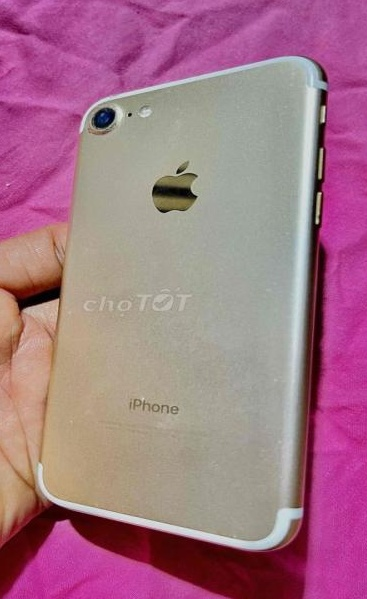scratch: (71, 98, 128, 136), (138, 88, 189, 115), (58, 408, 110, 429), (268, 96, 298, 125), (260, 436, 293, 461), (161, 119, 185, 150), (283, 61, 302, 90), (248, 279, 285, 293), (255, 374, 301, 385), (279, 207, 295, 238), (88, 497, 112, 513), (227, 527, 246, 543), (55, 306, 73, 318), (134, 396, 150, 402)
